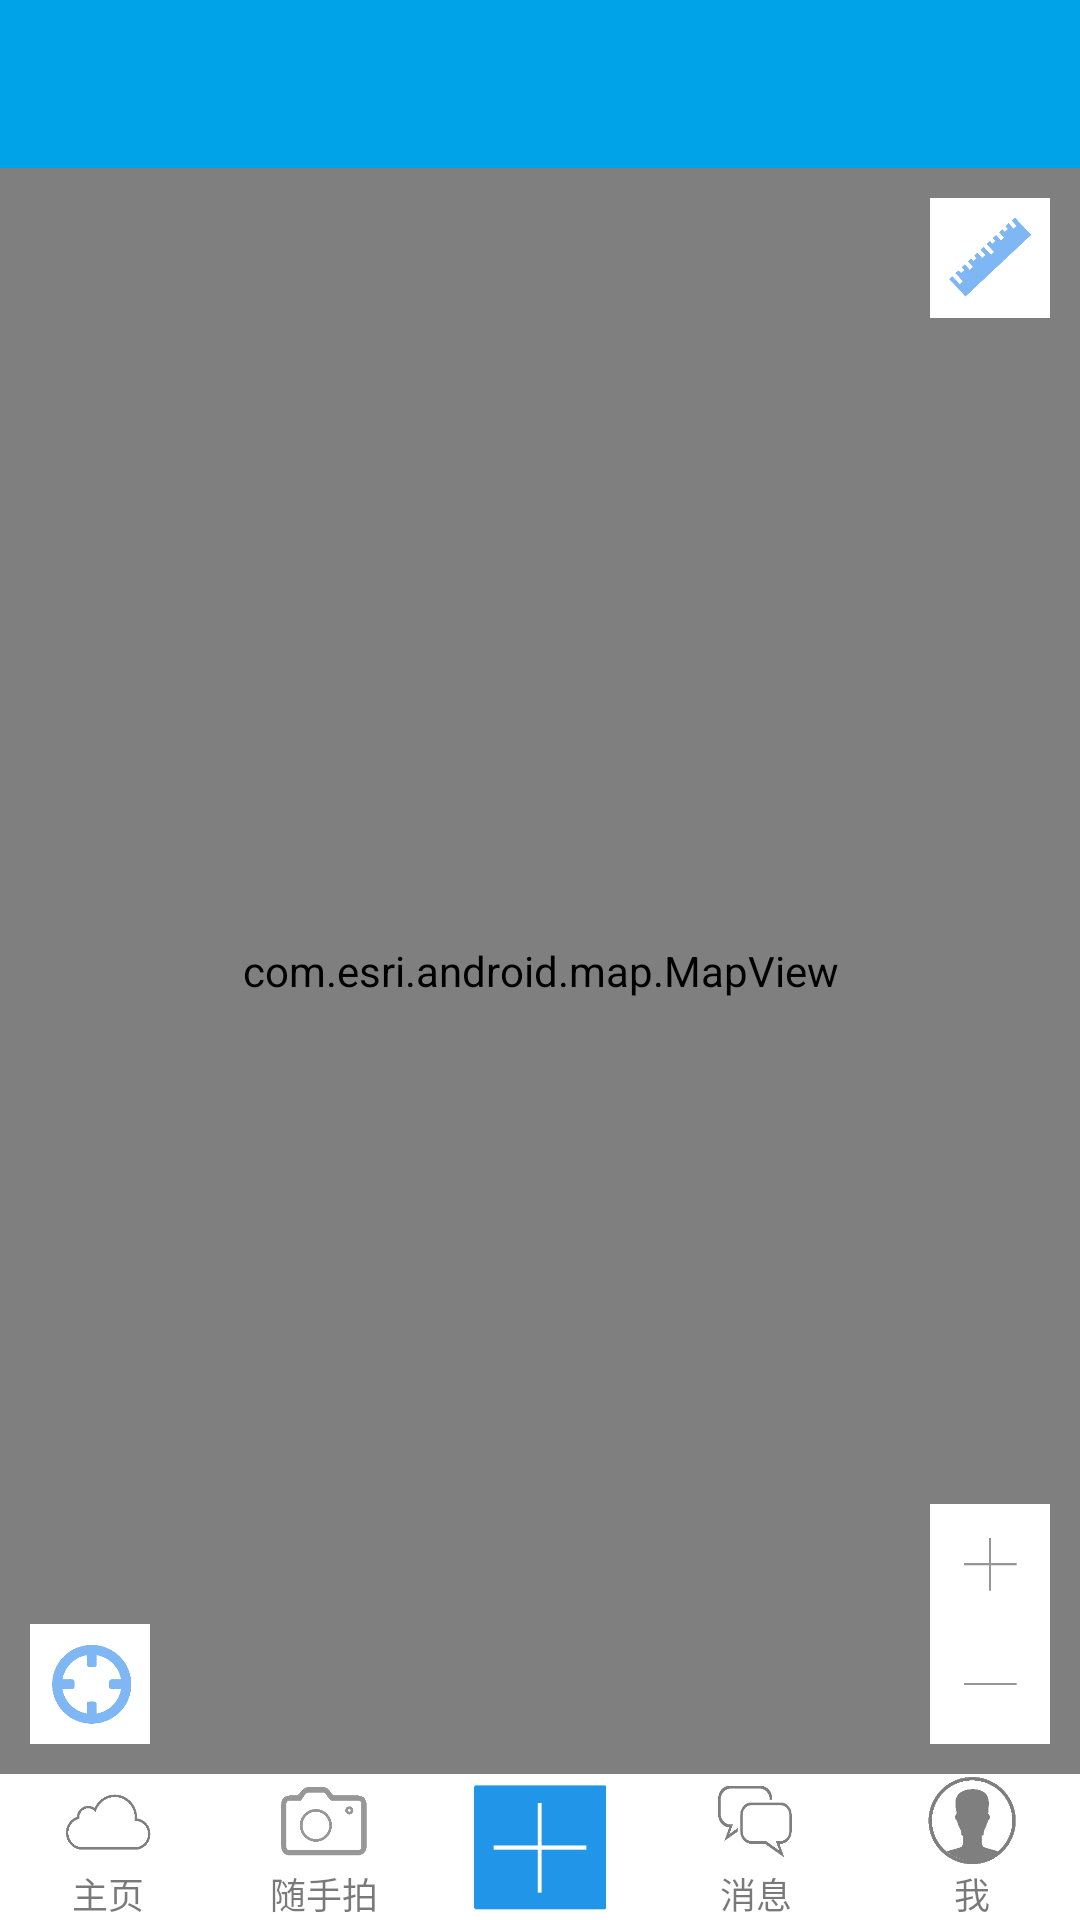

Icon click points for this 1080px x 1920px phone screenshot, format point (x, y):
dis: point (990, 258)
oloc: point (90, 1684)
